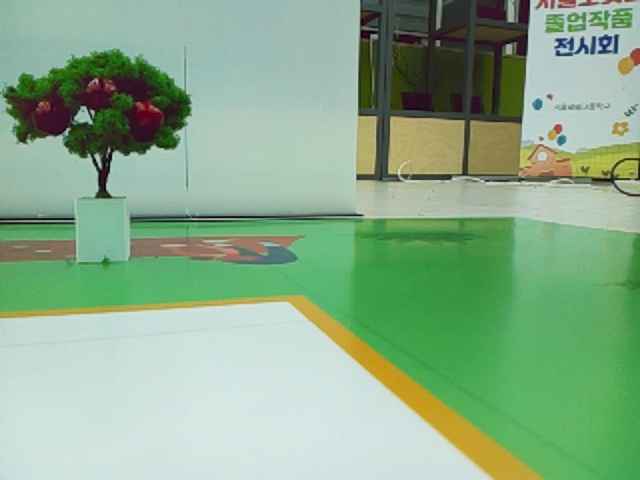apple: (135, 101, 163, 126), (88, 78, 113, 94)
